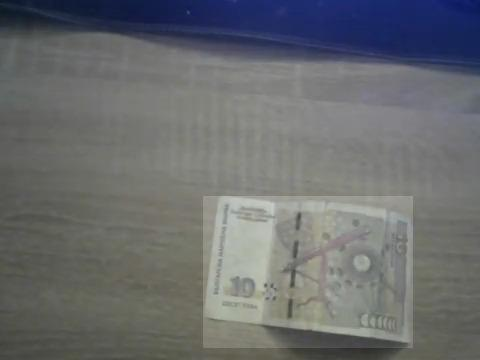10leva: (203, 196, 413, 348)
